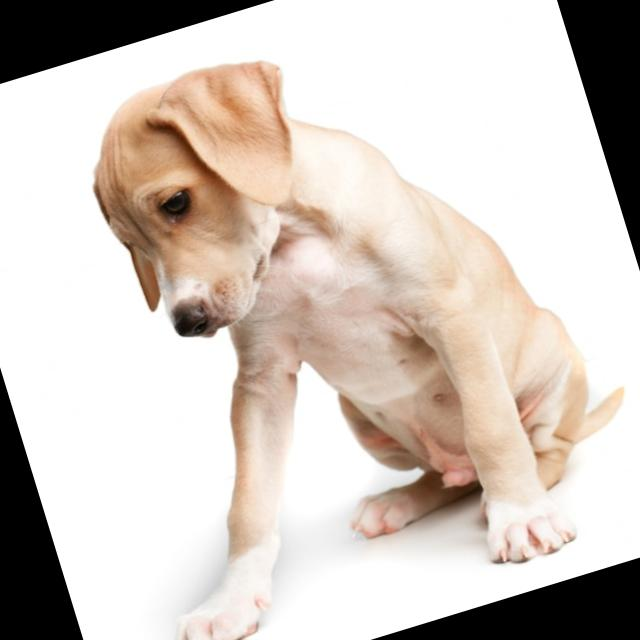Dog: (15, 0, 640, 640)
